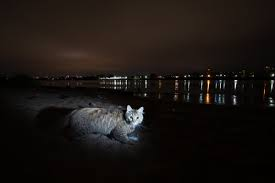house cat: (71, 107, 158, 147)
